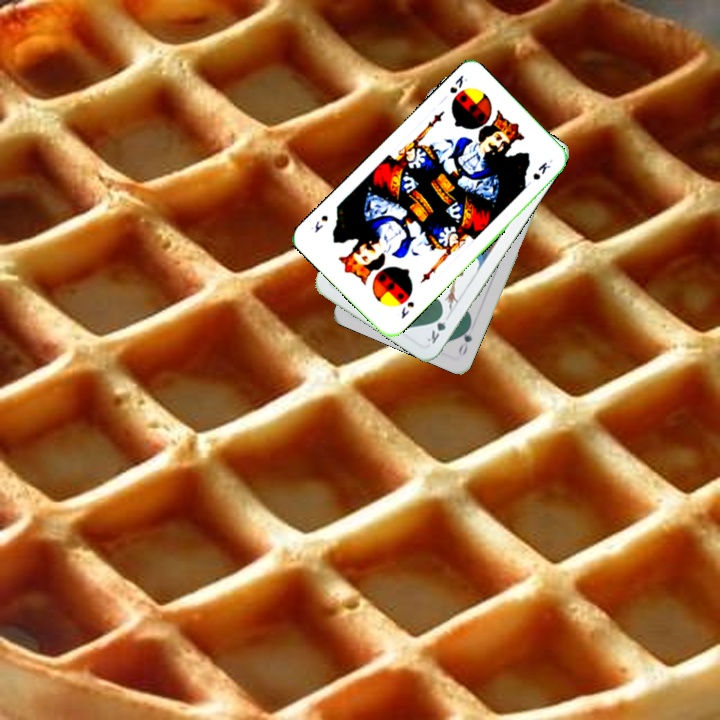GK: (423, 308, 449, 347)
GO: (454, 319, 475, 358)
SK: (445, 71, 470, 96), (397, 297, 417, 321)
